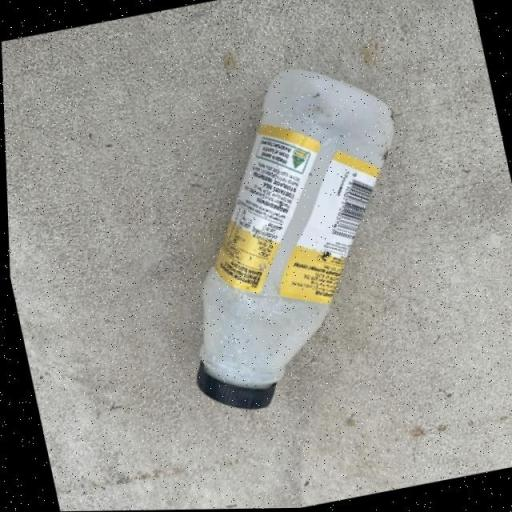plastic: (132, 50, 446, 420)
